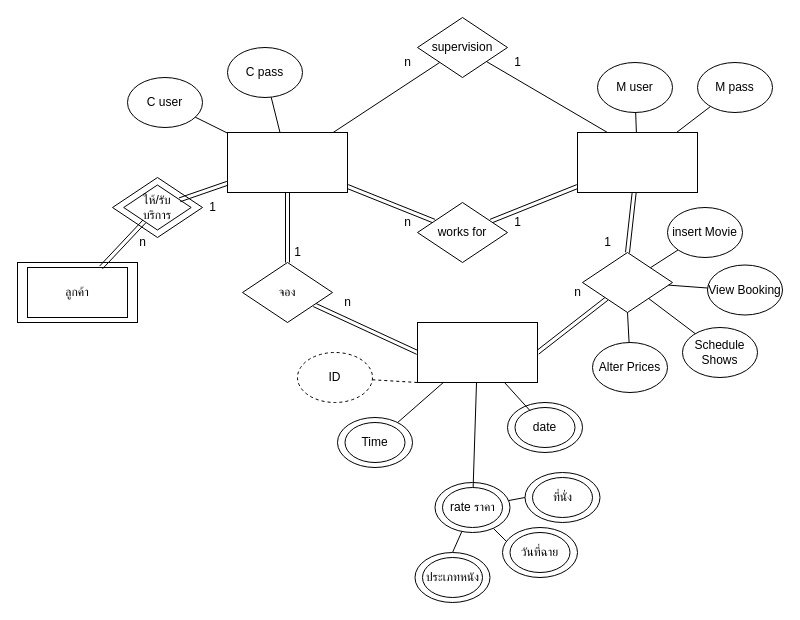
Some shapes in this 800 by 620 pixel diagram are drawn without their labels. The centre of each missing label's shape, as x and y in pixels:
"add" belongs at point (627, 282).
"cash" belongs at point (287, 162).
"manager" belongs at point (637, 162).
"Movie" belongs at point (477, 352).
